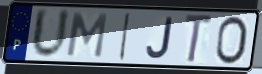I: (117, 11, 133, 62)
J: (145, 16, 175, 61)
M: (64, 11, 110, 60)
O: (213, 15, 249, 67)
T: (183, 12, 215, 66)
U: (30, 7, 72, 61)
